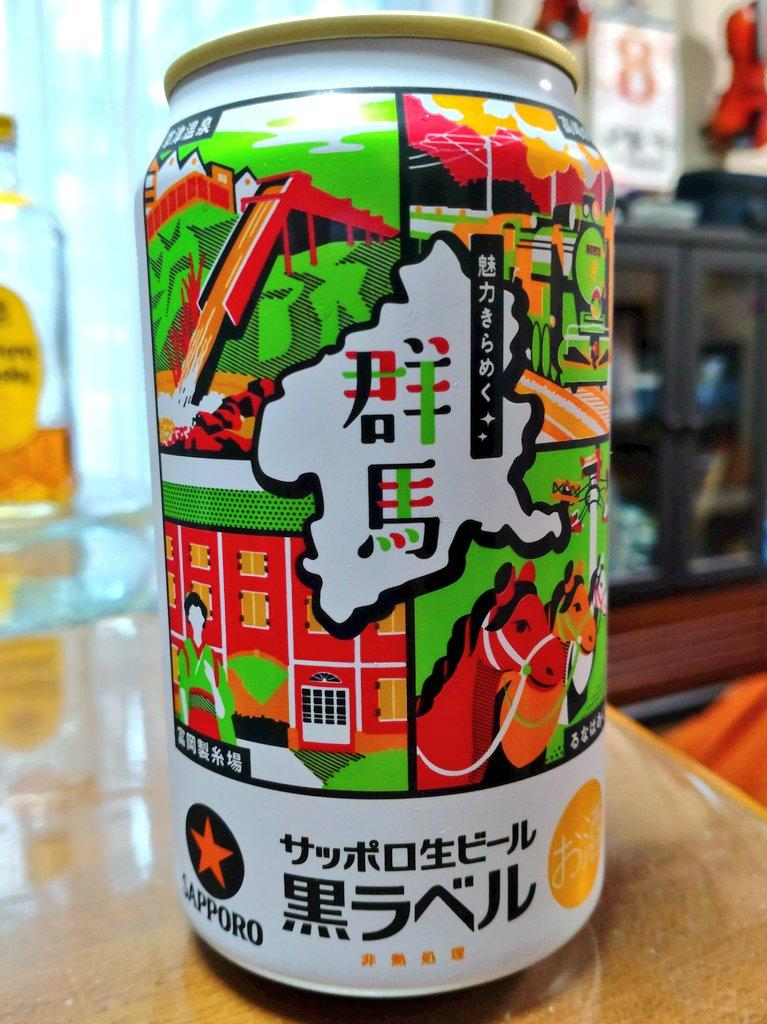metal: (134, 10, 642, 1022)
